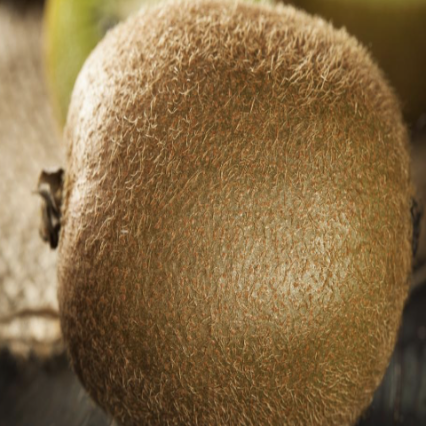kiwi: (18, 5, 425, 426)
